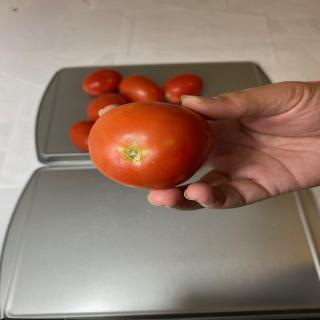Apple: (88, 101, 214, 190)
Chilli: (68, 68, 204, 152)
Tomato: (118, 74, 164, 102), (162, 73, 203, 103), (86, 93, 128, 121), (82, 68, 121, 95), (69, 120, 95, 152)
